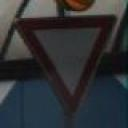preferencia: (13, 12, 117, 117)
